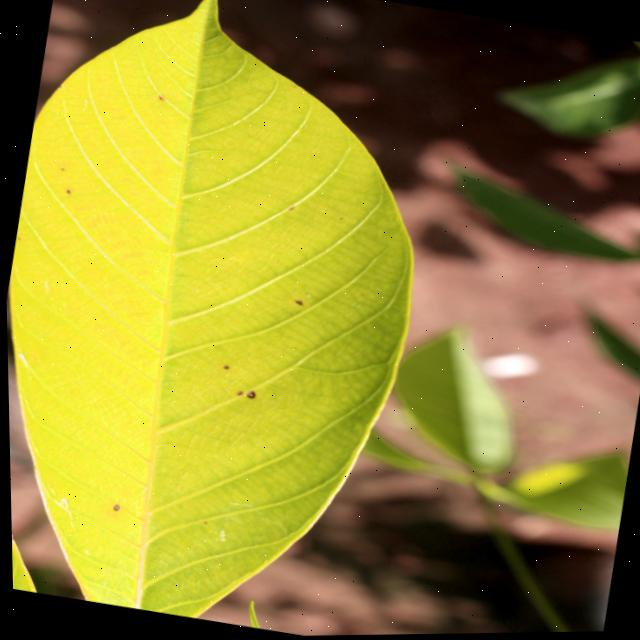Colletotrichum: (243, 392, 253, 399), (110, 505, 117, 511)
